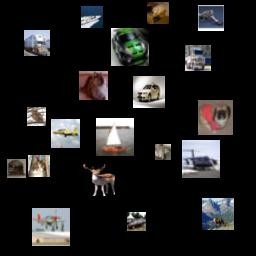airplane: (182, 140, 220, 178), (32, 208, 70, 246), (51, 119, 80, 148)
automobile: (111, 28, 149, 66), (133, 76, 165, 108), (127, 212, 146, 231)
bird: (27, 107, 46, 126)
cat: (79, 71, 108, 100), (28, 155, 50, 177), (147, 2, 169, 24), (7, 159, 26, 178)
deer: (202, 198, 234, 230), (83, 164, 115, 196)
dog: (198, 100, 233, 135)
frog: (198, 5, 224, 31), (155, 144, 171, 160)
ship: (96, 118, 134, 156), (81, 6, 103, 28)
truck: (24, 30, 50, 56), (185, 45, 211, 71)
